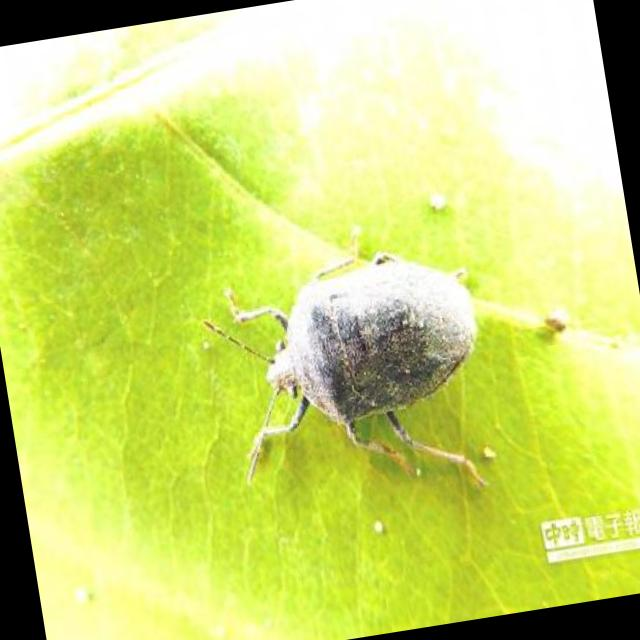rice-bug: (200, 215, 504, 514)
